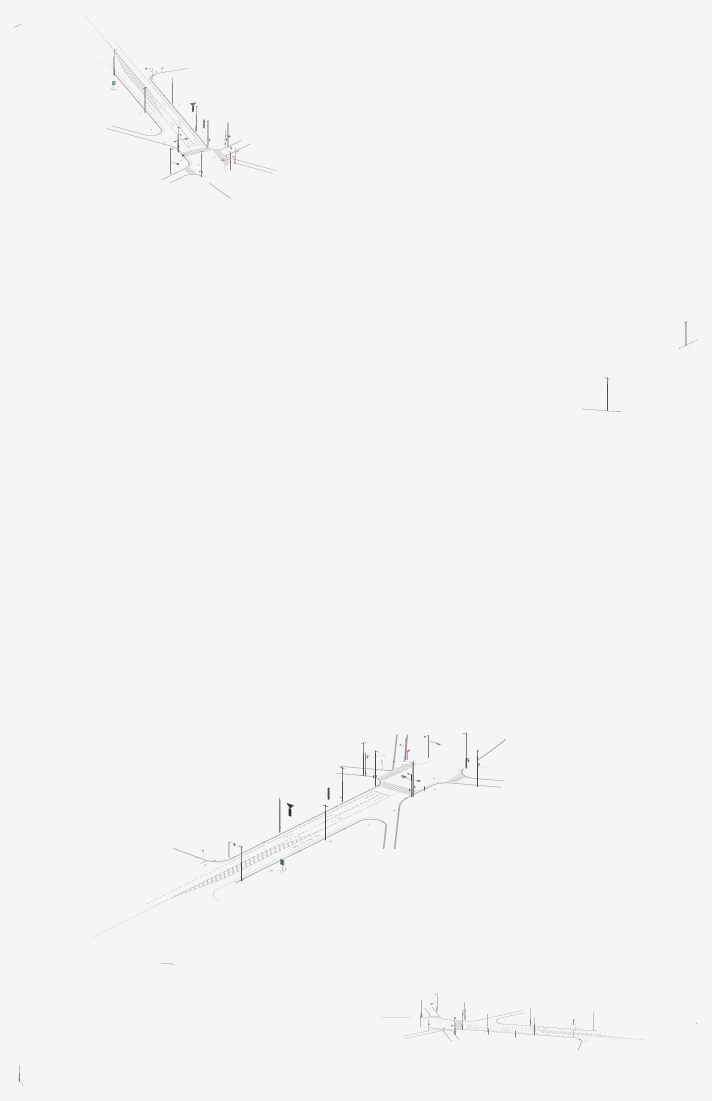
File: frn--8.glb
The picture shows the model from 3 angles, top to bottom: view 1: azimuth 30°, elevation 25°; view 2: azimuth 150°, elevation 25°; view 3: azimuth 270°, elevation 25°; orthographic projection. The views are drawn at different scales.
Size of the model in its own units: 118 by 12.55 by 428.
Materials: 2 (1 with a texture image).
